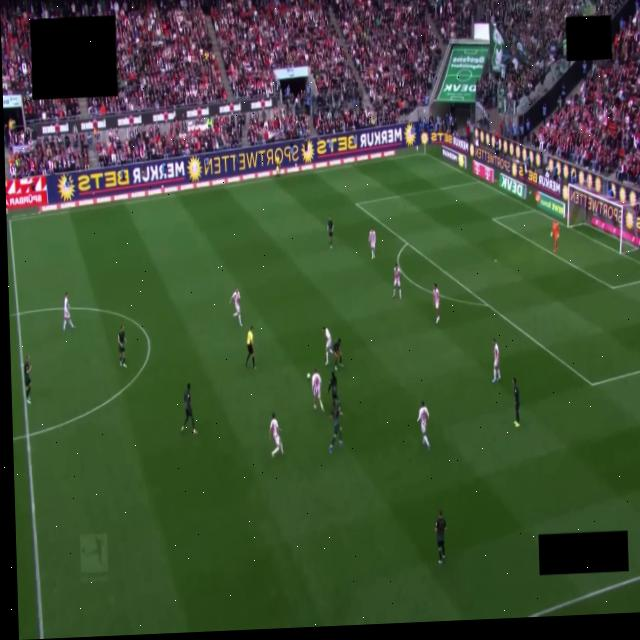ball: (306, 373, 310, 378)
player: (181, 384, 196, 434), (329, 402, 342, 453), (269, 413, 283, 458), (417, 401, 429, 451), (435, 510, 445, 564), (311, 370, 323, 409), (229, 288, 241, 326), (332, 338, 344, 371), (24, 355, 32, 404), (512, 378, 520, 427), (63, 293, 73, 330), (492, 339, 500, 383), (117, 325, 125, 368), (322, 327, 331, 365), (328, 372, 337, 409), (392, 263, 400, 299), (433, 283, 440, 324), (551, 221, 559, 253), (327, 214, 334, 249), (368, 229, 375, 259)
referee: (245, 326, 254, 369)
